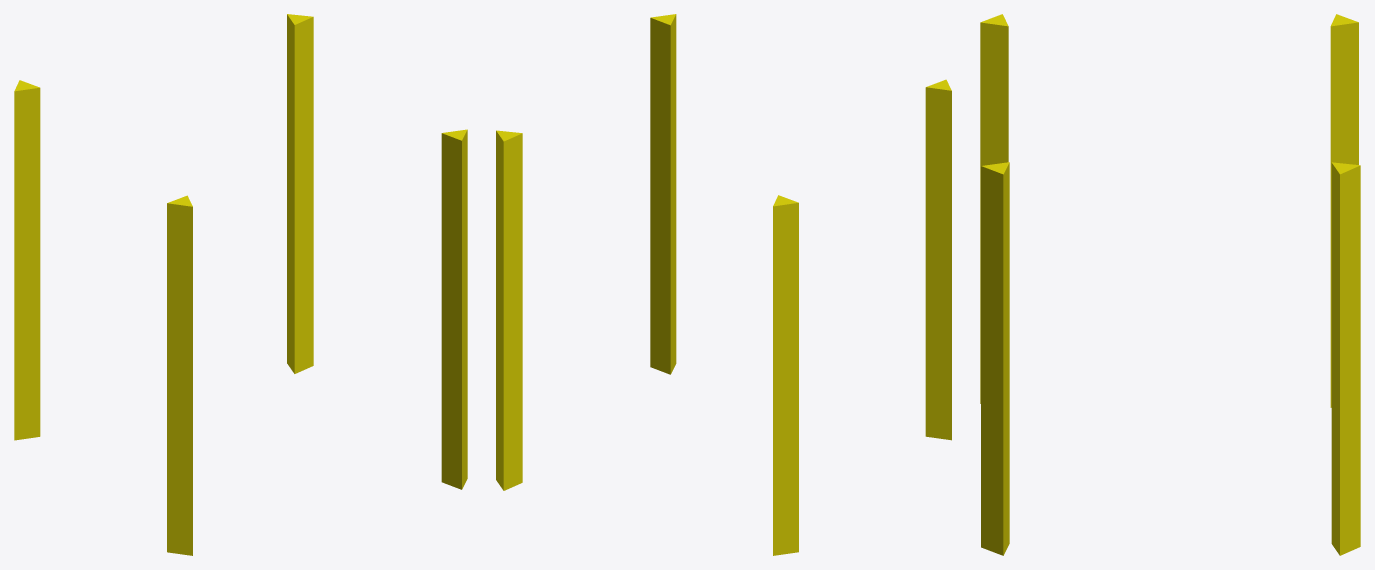
The model's file is tile_select_marker_3.dae.
3 views of the same model, side by side, from view 1: azimuth 30°, elevation 25°; view 2: azimuth 150°, elevation 25°; view 3: azimuth 270°, elevation 25° (orthographic). The views are drawn at different scales.
Parts seen in each view (by area): view 1: Cylinder.003; view 2: Cylinder.003; view 3: Cylinder.003.
Part boxes in pixels (x1,y1,x2,y2): Cylinder.003: (14, 14, 467, 555); Cylinder.003: (496, 14, 951, 555); Cylinder.003: (980, 14, 1360, 555).
Size of the model in its own units: 1.1 by 1.1 by 1.21.
